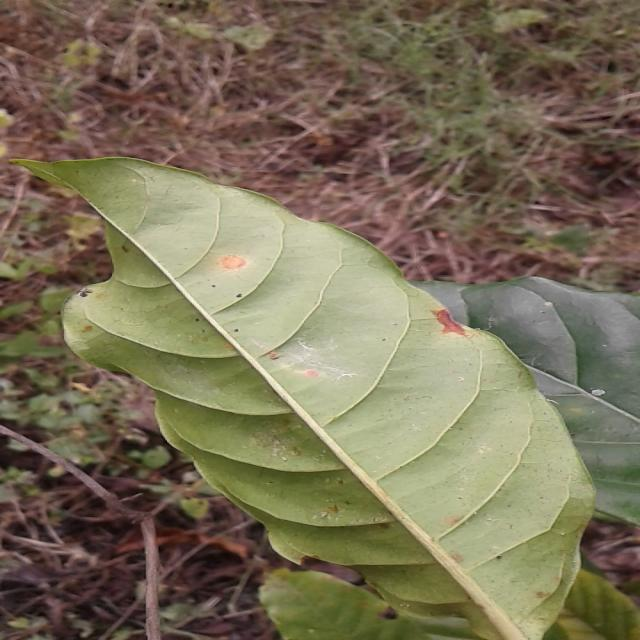Plaga-AranaRoja: (21, 157, 596, 640)
